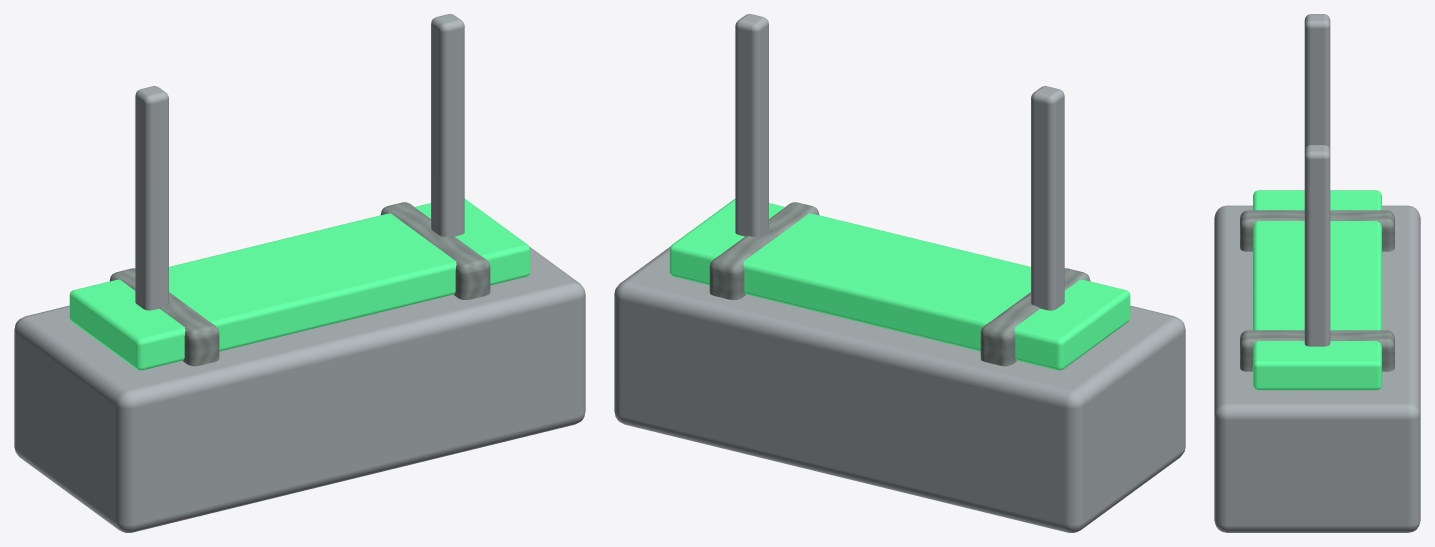
The model's file is liminal-spaces-kit-emergency-exit-sign-3094540c__25293.glb.
3 renders of one model, left to right at view 1: azimuth 30°, elevation 25°; view 2: azimuth 150°, elevation 25°; view 3: azimuth 270°, elevation 25°, orthographic. The views are drawn at different scales.
Visible parts, largest first — view 1: emergency-exit-sign; view 2: emergency-exit-sign; view 3: emergency-exit-sign.
Part boxes in pixels (box(x1,y1,x2,y2)): emergency-exit-sign: box(14, 14, 585, 532); emergency-exit-sign: box(614, 14, 1185, 532); emergency-exit-sign: box(1214, 14, 1420, 532).
Size of the model in its own units: 0.38 by 0.3 by 0.16.
Materials: 3 (1 with a texture image).
